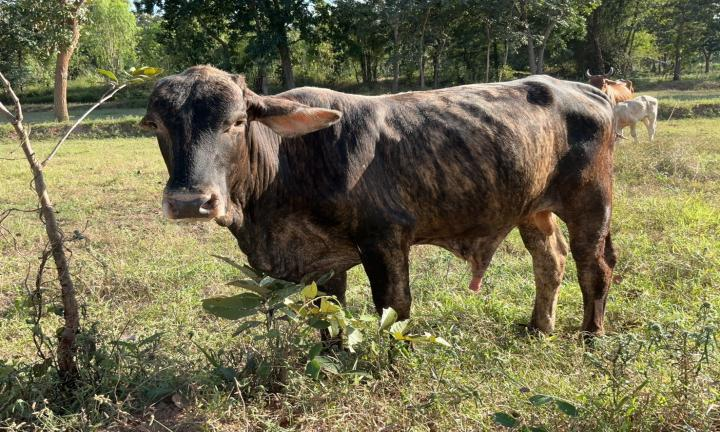Charolais: (141, 65, 617, 334)
